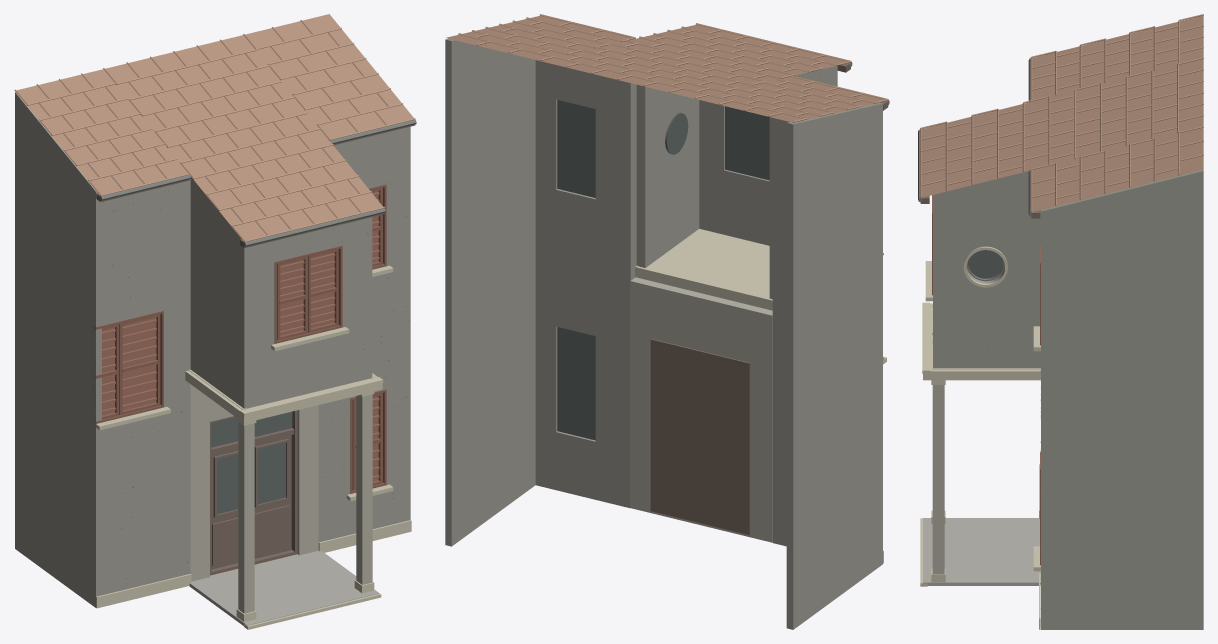
Rendered from huangpu-fuxing-garden-north-house-east-portico-lod.glb.
3 views of the same model, side by side, from view 1: azimuth 30°, elevation 25°; view 2: azimuth 150°, elevation 25°; view 3: azimuth 270°, elevation 25° (orthographic). The views are drawn at different scales.
Visible parts, largest first — view 1: 复兴中路471–477号花园住宅北栋东门廊与圆窗; view 2: 复兴中路471–477号花园住宅北栋东门廊与圆窗; view 3: 复兴中路471–477号花园住宅北栋东门廊与圆窗.
Part boxes in pixels (left/top/right/bottom): 复兴中路471–477号花园住宅北栋东门廊与圆窗: left=14, top=14, right=416, bottom=629; 复兴中路471–477号花园住宅北栋东门廊与圆窗: left=445, top=14, right=889, bottom=629; 复兴中路471–477号花园住宅北栋东门廊与圆窗: left=918, top=14, right=1203, bottom=629.
Bounding box in the file's own units: 6.91 × 9.64 × 5.41.
